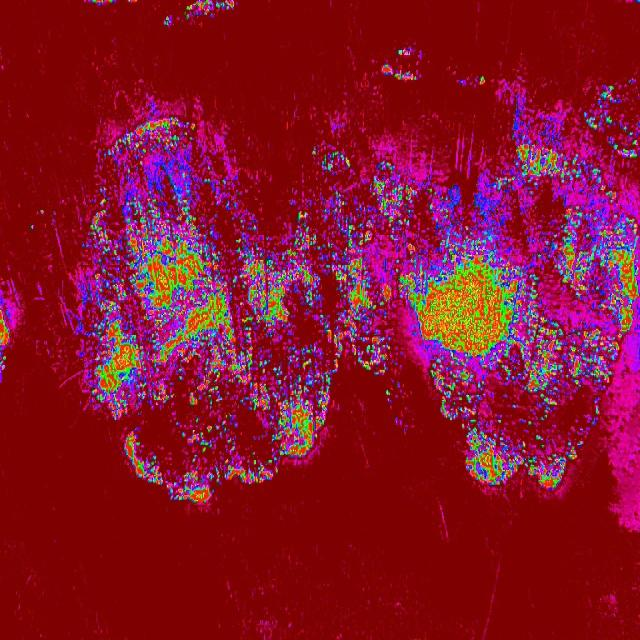fire: (344, 110, 640, 370), (74, 115, 253, 503), (252, 122, 343, 474), (430, 372, 611, 423), (463, 424, 588, 491), (159, 0, 237, 31), (0, 277, 21, 377), (378, 40, 425, 84), (592, 81, 626, 109)
